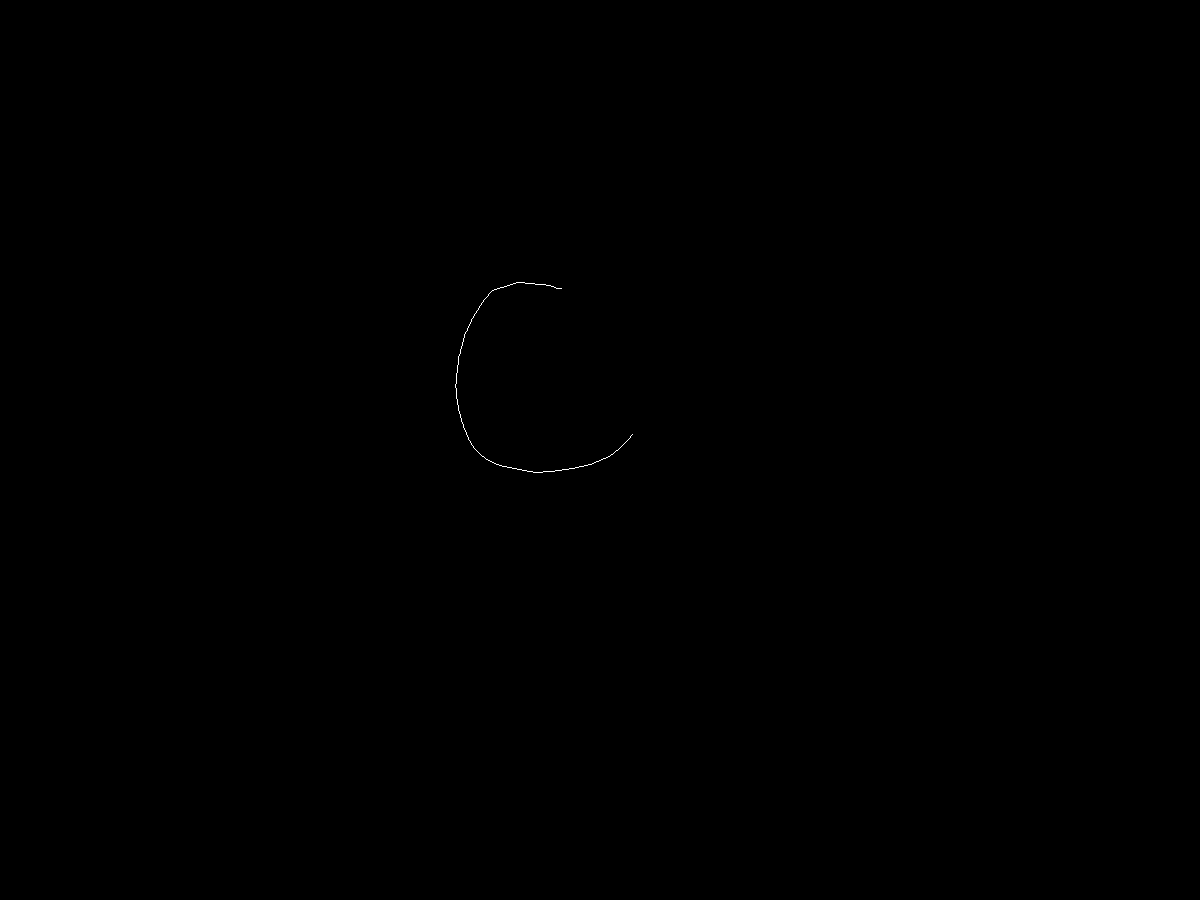dian1: (555, 277, 572, 293)
dian2: (622, 430, 645, 447)
